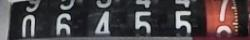digits: (16, 0, 42, 40), (54, 1, 77, 39), (172, 3, 195, 40), (212, 0, 232, 40), (130, 0, 150, 39), (94, 11, 110, 32)
